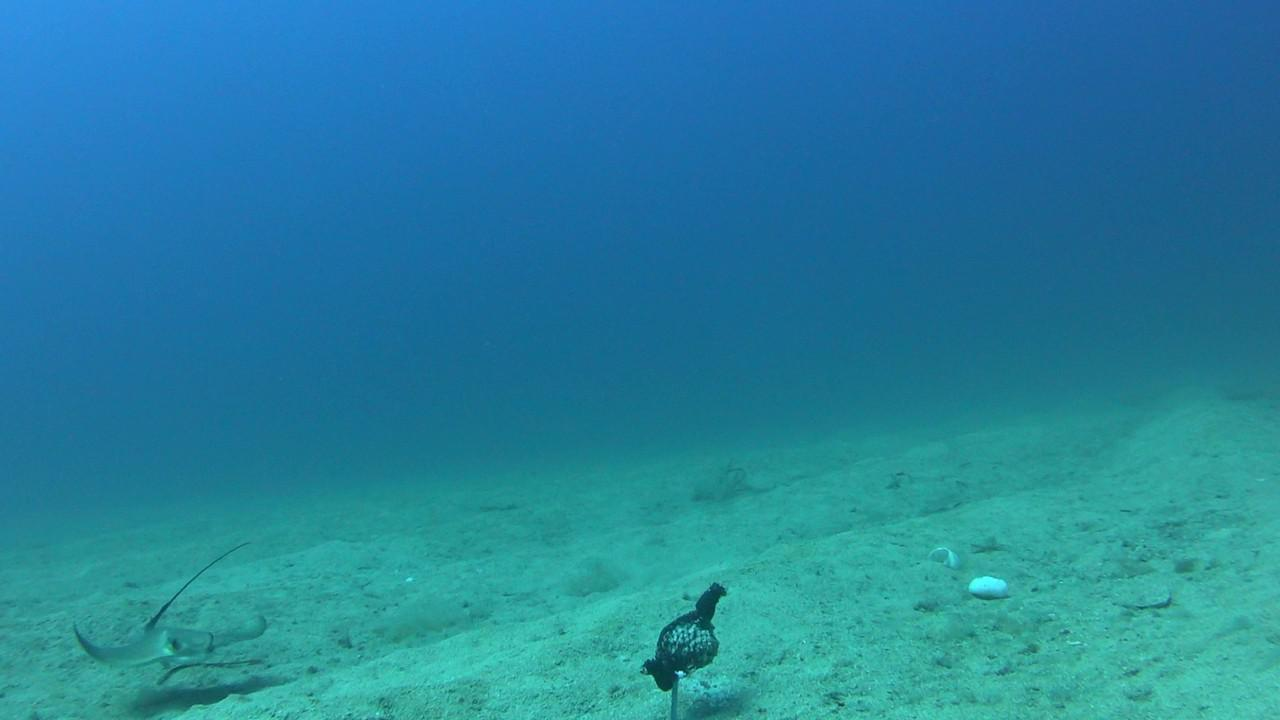myliobatis: (49, 525, 275, 681)
